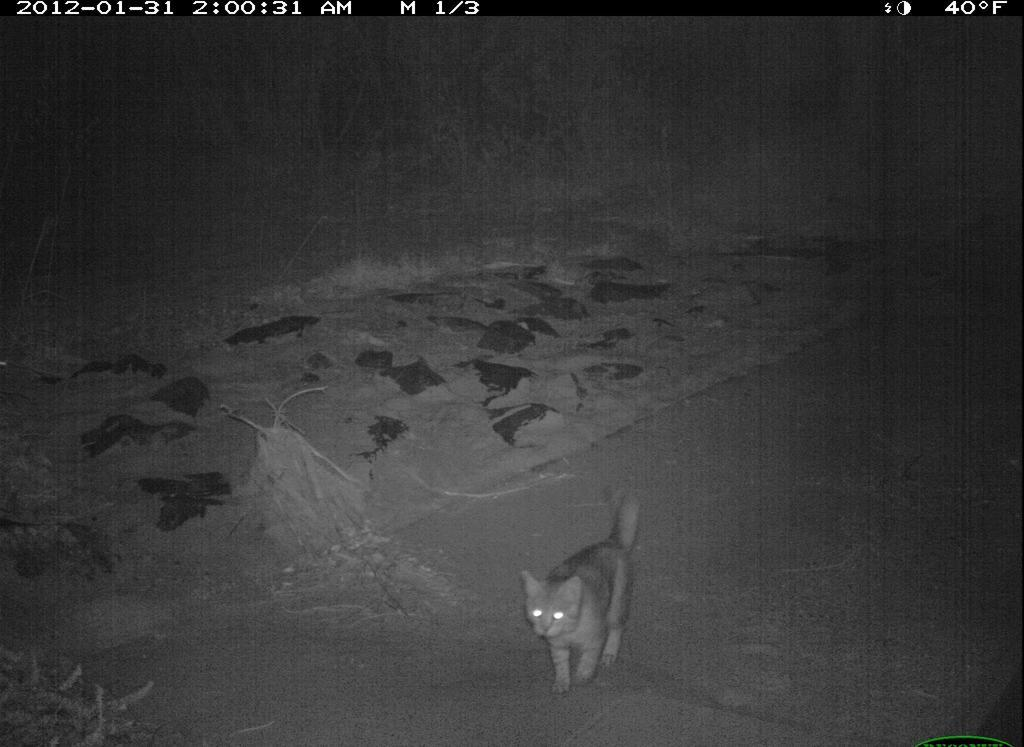cat: (514, 484, 666, 702)
